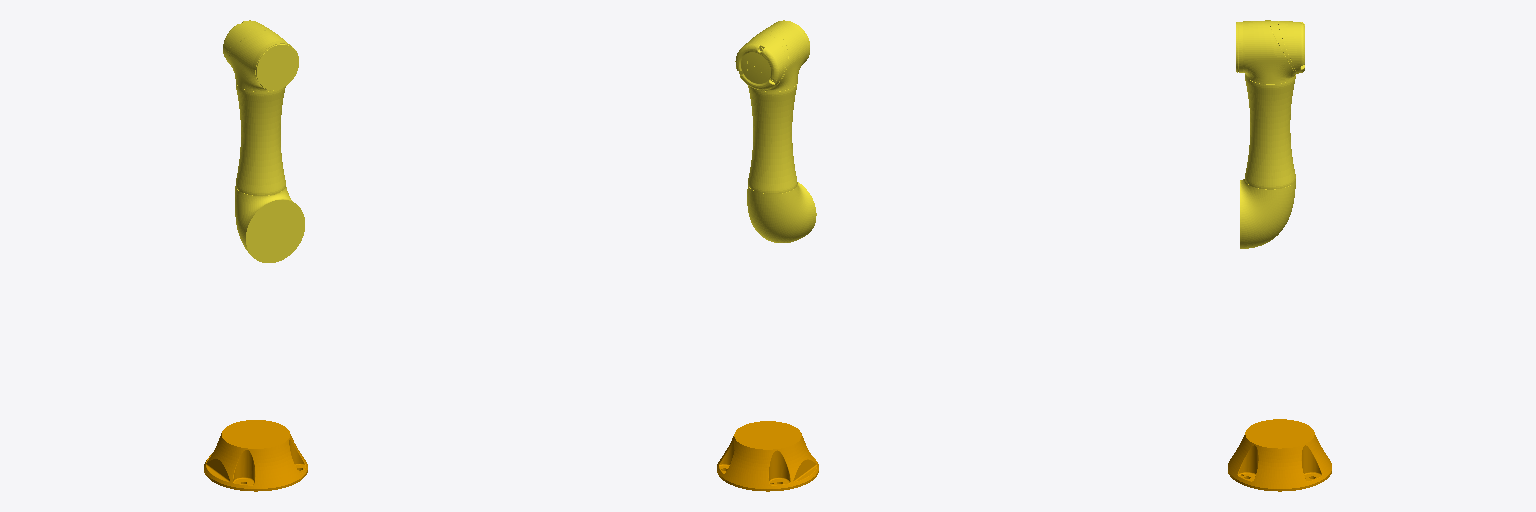
robot.urdf — tm5-700:
<?xml version="1.0" ?>
<!-- =================================================================================== -->
<!-- |    This document was autogenerated by xacro from tm5-700.urdf.xacro             | -->
<!-- |    EDITING THIS FILE BY HAND IS NOT RECOMMENDED                                 | -->
<!-- =================================================================================== -->
<robot name="tm5-700">
  <gazebo reference="link_1">
    <selfCollide>true</selfCollide>
  </gazebo>
  <gazebo reference="link_2">
    <selfCollide>true</selfCollide>
  </gazebo>
  <gazebo reference="link_3">
    <selfCollide>true</selfCollide>
  </gazebo>
  <gazebo reference="link_4">
    <selfCollide>true</selfCollide>
  </gazebo>
  <gazebo reference="link_5">
    <selfCollide>true</selfCollide>
  </gazebo>
  <gazebo reference="link_6">
    <selfCollide>true</selfCollide>
  </gazebo>
  <gazebo>
    <plugin filename="libgazebo_ros_control.so" name="gazebo_ros_control">
      <robotNamespace>/</robotNamespace>
      <robotSimType>gazebo_ros_control/DefaultRobotHWSim</robotSimType>
    </plugin>
  </gazebo>
  <transmission name="trans_1">
    <type>transmission_interface/SimpleTransmission</type>
    <joint name="joint_1">
      <hardwareInterface>hardware_interface/PositionJointInterface</hardwareInterface>
    </joint>
    <actuator name="motor_1">
      <mechanicalReduction>1</mechanicalReduction>
    </actuator>
  </transmission>
  <transmission name="trans_2">
    <type>transmission_interface/SimpleTransmission</type>
    <joint name="joint_2">
      <hardwareInterface>hardware_interface/PositionJointInterface</hardwareInterface>
    </joint>
    <actuator name="motor_2">
      <mechanicalReduction>1</mechanicalReduction>
    </actuator>
  </transmission>
  <transmission name="trans_3">
    <type>transmission_interface/SimpleTransmission</type>
    <joint name="joint_3">
      <hardwareInterface>hardware_interface/PositionJointInterface</hardwareInterface>
    </joint>
    <actuator name="motor_3">
      <mechanicalReduction>1</mechanicalReduction>
    </actuator>
  </transmission>
  <transmission name="trans_4">
    <type>transmission_interface/SimpleTransmission</type>
    <joint name="joint_4">
      <hardwareInterface>hardware_interface/PositionJointInterface</hardwareInterface>
    </joint>
    <actuator name="motor_4">
      <mechanicalReduction>1</mechanicalReduction>
    </actuator>
  </transmission>
  <transmission name="trans_5">
    <type>transmission_interface/SimpleTransmission</type>
    <joint name="joint_5">
      <hardwareInterface>hardware_interface/PositionJointInterface</hardwareInterface>
    </joint>
    <actuator name="motor_5">
      <mechanicalReduction>1</mechanicalReduction>
    </actuator>
  </transmission>
  <transmission name="trans_6">
    <type>transmission_interface/SimpleTransmission</type>
    <joint name="joint_6">
      <hardwareInterface>hardware_interface/PositionJointInterface</hardwareInterface>
    </joint>
    <actuator name="motor_6">
      <mechanicalReduction>1</mechanicalReduction>
    </actuator>
  </transmission>
  <material name="lightgrey">
    <color rgba="0.5 0.5 0.5 1.0"/>
  </material>
  <material name="grey">
    <color rgba="0.75 0.75 0.75 1.0"/>
  </material>
  <material name="white">
    <color rgba="0.95 0.95 0.95 1.0"/>
  </material>
  <material name="red">
    <color rgba="0.95 0.0 0.0 1.0"/>
  </material>
  <material name="orange">
    <color rgba="1.0 0.5 0.0 1.0"/>
  </material>
  <material name="yellow">
    <color rgba="1.0 1.0 0.0 1.0"/>
  </material>
  <material name="green">
    <color rgba="0.0 1.0 0.0 1.0"/>
  </material>
  <material name="blue">
    <color rgba="0.0 0.0 1.0 1.0"/>
  </material>
  <material name="indigo">
    <color rgba="0.3 0.3 0.6 1.0"/>
  </material>
  <material name="violet">
    <color rgba="0.6 0.0 1.0 1.0"/>
  </material>
  <material name="black">
    <color rgba="0.0 0.0 0.0 1.0"/>
  </material>
  <material name="darkolive">
    <color rgba="0.3 0.3 0.25 1.0"/>
  </material>
  <!--LinkDescription-->
  <link name="link_0">
    <visual>
      <geometry>
        <mesh filename="package://tm_description/meshes/tm5-900/visual/tm5-base.obj"/>
      </geometry>
      <material name="none"/>
    </visual>
    <collision>
      <geometry>
        <mesh filename="package://tm_description/meshes/tm5-900/collision/tm5-base_c.stl"/>
      </geometry>
    </collision>
    <inertial>
      <mass value="1.0"/>
      <origin rpy="0.000000 0.000000 0.000000" xyz="0.000000 0.000000 0.000000"/>
      <inertia ixx="0.00110833289" ixy="0.0" ixz="0.0" iyy="0.00110833289" iyz="0.0" izz="0.0018"/>
    </inertial>
  </link>
  <joint name="joint_1" type="revolute">
    <parent link="link_0"/>
    <child link="link_1"/>
    <origin rpy="0.000000 -0.000000 0.000000" xyz="0.000000 0.000000 0.145100"/>
    <axis xyz="0 0 1"/>
    <!--limit-->
    <limit effort="157" lower="-4.71238898038469" upper="4.71238898038469" velocity="3.141592653589793"/>
    <dynamics damping="0.0" friction="0.0"/>
  </joint>
  <link name="link_1">
    <visual>
      <geometry>
        <mesh filename="package://tm_description/meshes/tm5-900/visual/tmr_400w_01.obj"/>
      </geometry>
      <material name="none"/>
    </visual>
    <collision>
      <geometry>
        <mesh filename="package://tm_description/meshes/tm5-900/collision/tmr_400w_01_c.stl"/>
      </geometry>
    </collision>
    <inertial>
      <origin rpy="0.000000 0.000000 0.000000" xyz="0.000000 0.000000 0.000000"/>
      <mass value="4.032"/>
      <inertia ixx="0.008800119" ixy="0.000000" ixz="0.000000" iyy="0.011548982" iyz="0.000000" izz="0.011970080999999999"/>
    </inertial>
  </link>
  <joint name="joint_2" type="revolute">
    <parent link="link_1"/>
    <child link="link_2"/>
    <origin rpy="-1.570796 -1.570796 0.000000" xyz="0.000000 0.000000 0.000000"/>
    <axis xyz="0 0 1"/>
    <!--limit-->
    <limit effort="157" lower="-3.141592653589793" upper="3.141592653589793" velocity="3.141592653589793"/>
    <dynamics damping="0.0" friction="0.0"/>
  </joint>
  <link name="link_2">
    <visual>
      <geometry>
        <mesh filename="package://tm_description/meshes/tm5-700/visual/tm5-700_arm1.obj"/>
      </geometry>
      <material name="none"/>
    </visual>
    <collision>
      <geometry>
        <mesh filename="package://tm_description/meshes/tm5-700/collision/tm5-700_arm1_c.stl"/>
      </geometry>
    </collision>
    <inertial>
      <origin rpy="0.000000 0.000000 0.000000" xyz="0.000000 0.000000 0.000000"/>
      <mass value="8.897"/>
      <inertia ixx="0.024459295" ixy="0.000000" ixz="0.000000" iyy="0.205888616" iyz="0.000000" izz="0.2124734246"/>
    </inertial>
  </link>
  <joint name="joint_3" type="revolute">
    <parent link="link_2"/>
    <child link="link_3"/>
    <origin rpy="0.000000 -0.000000 0.000000" xyz="0.329000 0.000000 0.000000"/>
    <axis xyz="0 0 1"/>
    <!--limit-->
    <limit effort="157" lower="-2.705260340591211" upper="2.705260340591211" velocity="3.141592653589793"/>
    <dynamics damping="0.0" friction="0.0"/>
  </joint>
  <link name="link_3">
    <visual>
      <geometry>
        <mesh filename="package://tm_description/meshes/tm5-700/visual/tm5-700_arm2.obj"/>
      </geometry>
      <material name="none"/>
    </visual>
    <collision>
      <geometry>
        <mesh filename="package://tm_description/meshes/tm5-700/collision/tm5-700_arm2_c.stl"/>
      </geometry>
    </collision>
    <inertial>
      <origin rpy="0.000000 0.000000 0.000000" xyz="0.000000 0.000000 0.000000"/>
      <mass value="2.443"/>
      <inertia ixx="0.003632988" ixy="0.000000" ixz="0.000000" iyy="0.03635926" iyz="0.000000" izz="0.036895644"/>
    </inertial>
  </link>
  <joint name="joint_4" type="revolute">
    <parent link="link_3"/>
    <child link="link_4"/>
    <origin rpy="0.000000 -0.000000 1.570796" xyz="0.311500 0.000000 -0.122200"/>
    <axis xyz="0 0 1"/>
    <!--limit-->
    <limit effort="43" lower="-3.141592653589793" upper="3.141592653589793" velocity="3.9269908169872414"/>
    <dynamics damping="0.0" friction="0.0"/>
  </joint>
  <link name="link_4">
    <visual>
      <geometry>
        <mesh filename="package://tm_description/meshes/tm5-900/visual/tmr_100w_01.obj"/>
      </geometry>
      <material name="none"/>
    </visual>
    <collision>
      <geometry>
        <mesh filename="package://tm_description/meshes/tm5-900/collision/tmr_100w_01_c.stl"/>
      </geometry>
    </collision>
    <inertial>
      <origin rpy="0.000000 0.000000 0.000000" xyz="0.000000 0.000000 0.000000"/>
      <mass value="1.576"/>
      <inertia ixx="0.002058405" ixy="0.000000" ixz="0.000000" iyy="0.0025630790000000002" iyz="0.000000" izz="0.00264321"/>
    </inertial>
  </link>
  <joint name="joint_5" type="revolute">
    <parent link="link_4"/>
    <child link="link_5"/>
    <origin rpy="1.570796 -0.000000 0.000000" xyz="0.000000 -0.106000 0.000000"/>
    <axis xyz="0 0 1"/>
    <!--limit-->
    <limit effort="43" lower="-3.141592653589793" upper="3.141592653589793" velocity="3.9269908169872414"/>
    <dynamics damping="0.0" friction="0.0"/>
  </joint>
  <link name="link_5">
    <visual>
      <geometry>
        <mesh filename="package://tm_description/meshes/tm5-900/visual/tmr_100w_02.obj"/>
      </geometry>
      <material name="none"/>
    </visual>
    <collision>
      <geometry>
        <mesh filename="package://tm_description/meshes/tm5-900/collision/tmr_100w_02_c.stl"/>
      </geometry>
    </collision>
    <inertial>
      <origin rpy="0.000000 0.000000 0.000000" xyz="0.000000 0.000000 0.000000"/>
      <mass value="1.576"/>
      <inertia ixx="0.002058405" ixy="0.000000" ixz="0.000000" iyy="0.0025630790000000002" iyz="0.000000" izz="0.00264321"/>
    </inertial>
  </link>
  <joint name="joint_6" type="revolute">
    <parent link="link_5"/>
    <child link="link_6"/>
    <origin rpy="1.570796 -0.000000 0.000000" xyz="0.000000 -0.114400 0.000000"/>
    <axis xyz="0 0 1"/>
    <!--limit-->
    <limit effort="43" lower="-4.71238898038469" upper="4.71238898038469" velocity="3.9269908169872414"/>
    <dynamics damping="0.0" friction="0.0"/>
  </joint>
  <link name="link_6">
    <visual>
      <geometry>
        <mesh filename="package://tm_description/meshes/tm5-900/visual/tmr_ee.obj"/>
      </geometry>
      <material name="none"/>
    </visual>
    <collision>
      <geometry>
        <mesh filename="package://tm_description/meshes/tm5-900/collision/tmr_ee_c.stl"/>
      </geometry>
    </collision>
    <inertial>
      <origin rpy="0.000000 0.000000 0.000000" xyz="0.000000 0.000000 0.000000"/>
      <mass value="0.4"/>
      <inertia ixx="0.00047664299999999996" ixy="0.000000" ixz="0.000000" iyy="0.0008515759999999999" iyz="0.000000" izz="0.00095969"/>
    </inertial>
  </link>
  <link name="base"/>
  <joint name="base_fixed_joint" type="fixed">
    <parent link="base"/>
    <child link="link_0"/>
    <origin rpy="0.000000 0.000000 0.000000" xyz="0.000000 0.000000 0.000000"/>
  </joint>
  <link name="flange"/>
  <joint name="flange_fixed_joint" type="fixed">
    <parent link="link_6"/>
    <child link="flange"/>
    <origin rpy="0.000000 0.000000 0.000000" xyz="0.000000 0.000000 0.000000"/>
  </joint>
  <!--LinkDescription-->
</robot>

--- Facts derived from the render (not from the file) ---
Views: 3 orthographic renders of the robot side by side, from view 1: azimuth 30°, elevation 25°; view 2: azimuth 150°, elevation 25°; view 3: azimuth 270°, elevation 25°.
Model tm5-700 with 9 links and 8 joints (6 revolute, 2 fixed), rooted at base, posed all joints at 0.
Visible links, largest first — view 1: link_3, link_0; view 2: link_3, link_0; view 3: link_3, link_0.
Link boxes in pixels (box(x1,y1,x2,y2)): link_3: box(223, 20, 304, 262); link_0: box(204, 420, 307, 491); link_3: box(735, 20, 816, 242); link_0: box(717, 421, 818, 491); link_3: box(1236, 20, 1304, 248); link_0: box(1228, 419, 1331, 491).
Bounding box of the posed robot: 0.177 × 0.177 × 0.8304 m (x, y, z).
2 mesh visuals loaded from 7 distinct referenced files (2 OBJ); not drawn: 5 (reference not matched to a file when rendering).